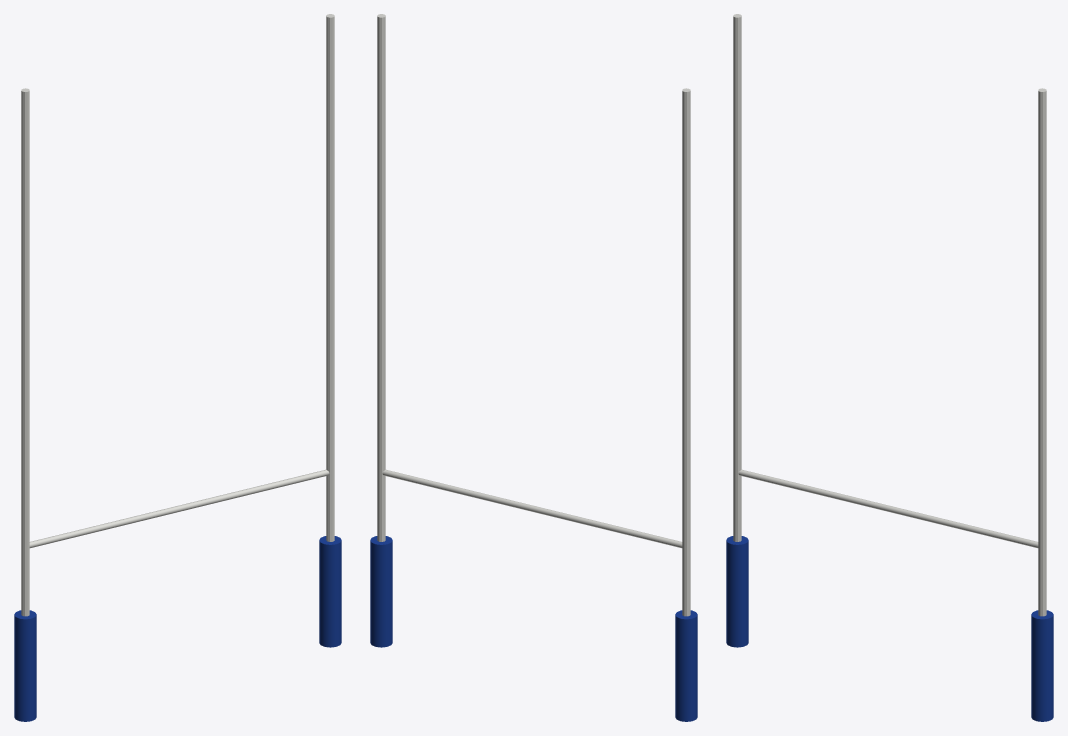
File: sport.pitch.rugby_posts.glb
The picture shows the model from 3 angles, left to right: view 1: azimuth 30°, elevation 25°; view 2: azimuth 150°, elevation 25°; view 3: azimuth 330°, elevation 25°; orthographic projection.
Parts seen in each view (by area): view 1: main__paint_white, main__plastic_blue; view 2: main__paint_white, main__plastic_blue; view 3: main__paint_white, main__plastic_blue.
Boxes of the visible parts, x1=… form: main__paint_white: x1=21, y1=14, x2=334, y2=616; main__plastic_blue: x1=14, y1=536, x2=341, y2=721; main__paint_white: x1=377, y1=14, x2=690, y2=616; main__plastic_blue: x1=370, y1=536, x2=697, y2=721; main__paint_white: x1=733, y1=14, x2=1046, y2=616; main__plastic_blue: x1=726, y1=536, x2=1053, y2=721.
Size of the model in its own units: 5.96 by 11 by 0.36.
